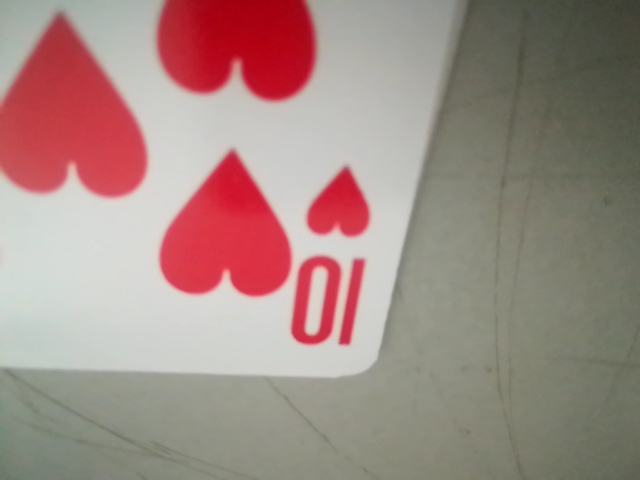hx 10: (286, 162, 389, 355)
